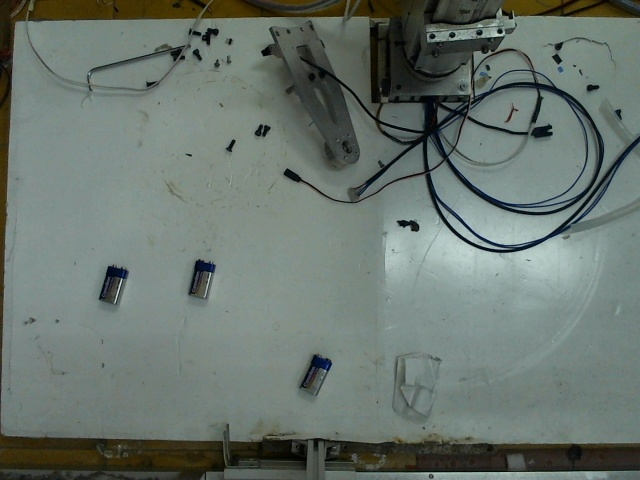battery: (93, 258, 129, 305), (298, 350, 329, 397), (185, 255, 215, 301)
